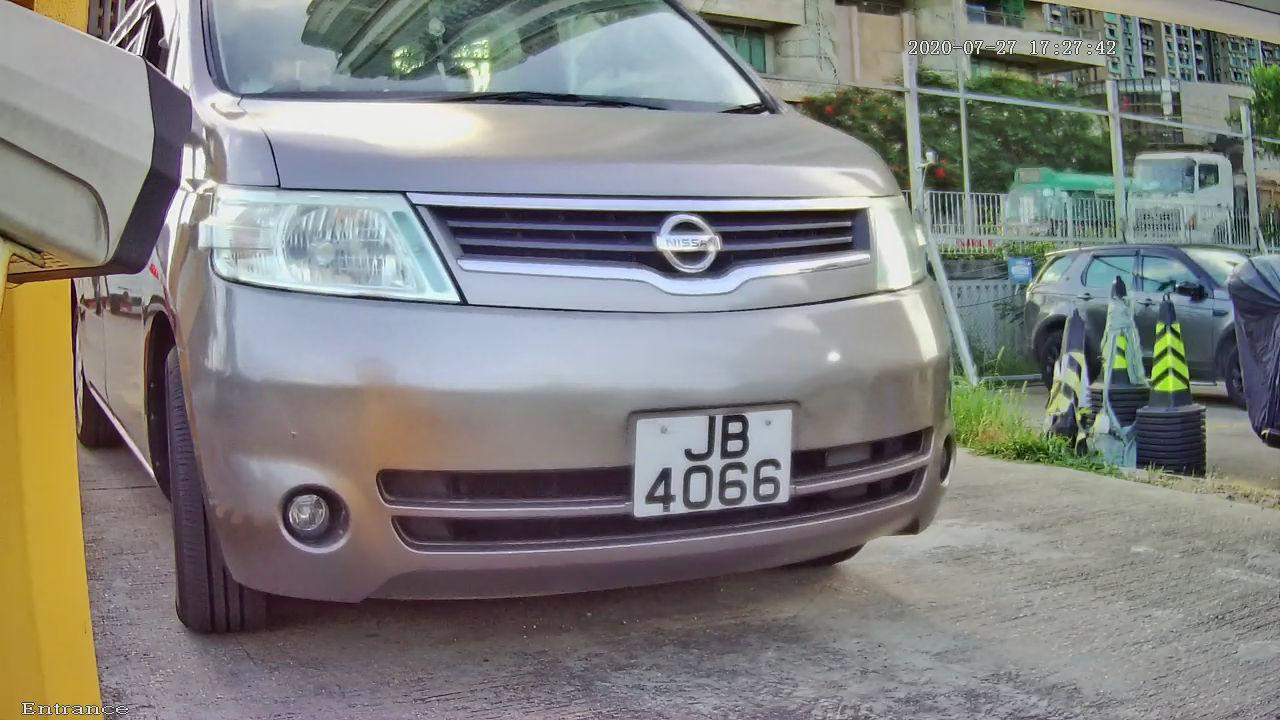privatecar: (86, 23, 1046, 634)
